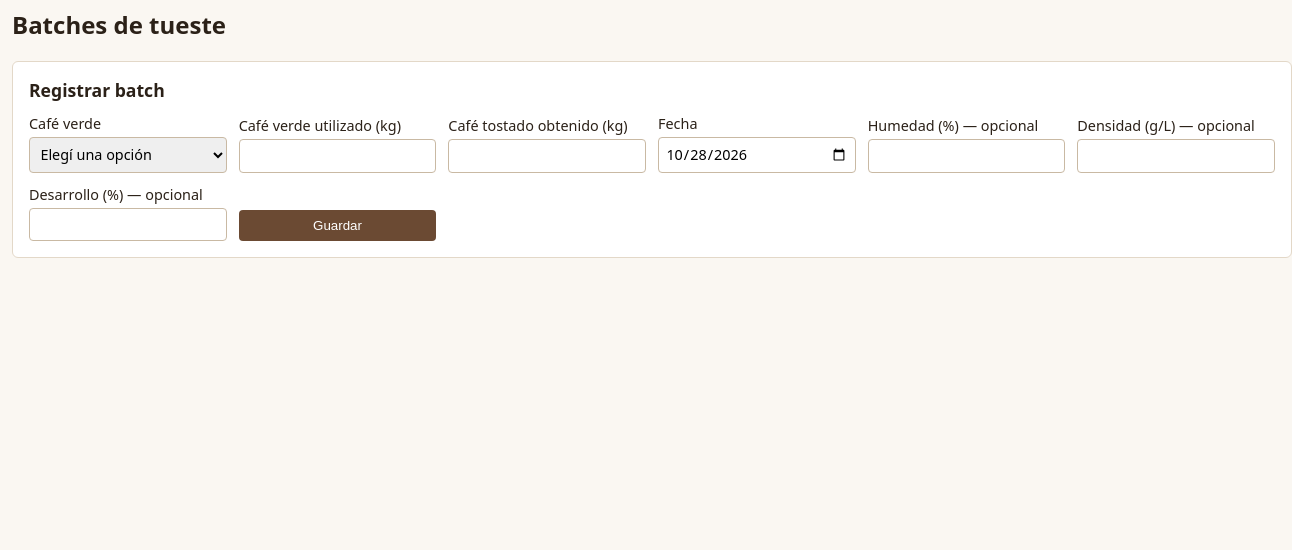
it: Página de batches › envía los kg tal como se cargaron y muestra los valores calculados por la API
The image size is (1292, 550).
Select "Colombia" in the dropdown. click: [128, 155]
box: top-left (29, 137), bottom-right (227, 173)
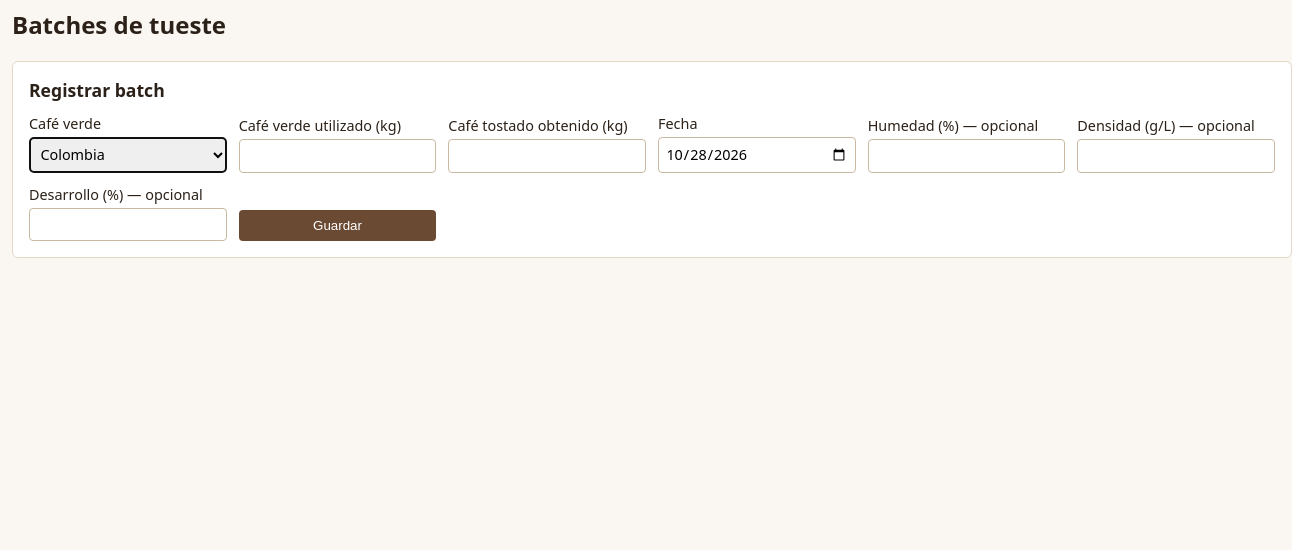
Type "5,25" into the field labelled "Café verde utilizado (kg)". click: [338, 156]
box: top-left (239, 139), bottom-right (436, 173)
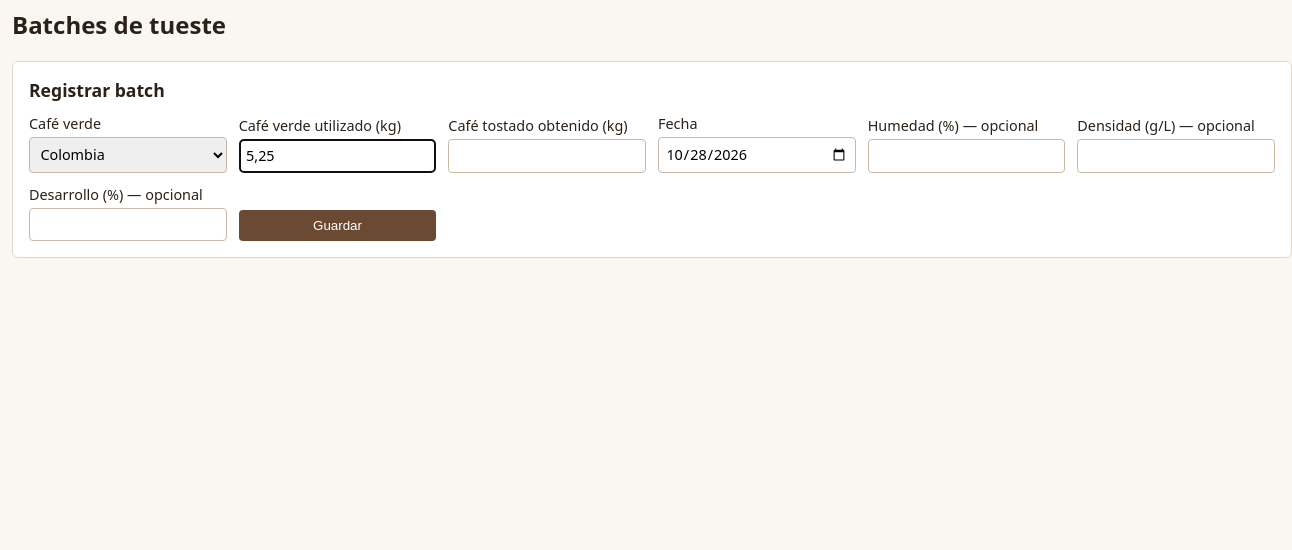
Type "4.5" into the field labelled "Café tostado obtenido (kg)". click: [547, 156]
box: top-left (448, 139), bottom-right (646, 173)
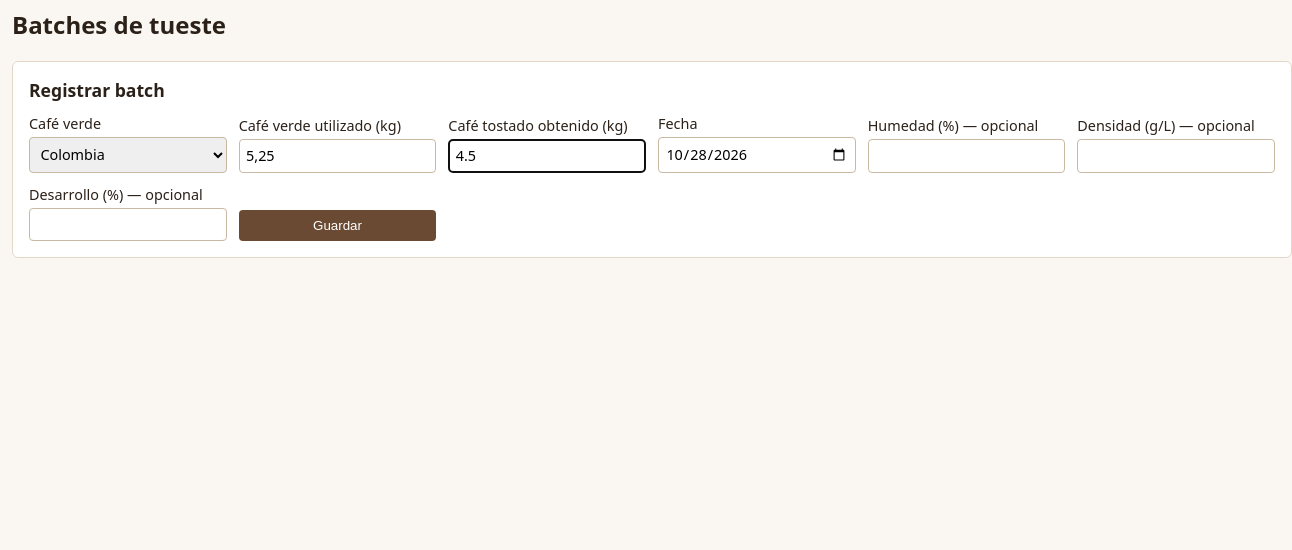
Click the button "Guardar". click: [338, 226]
box: top-left (239, 210), bottom-right (436, 241)
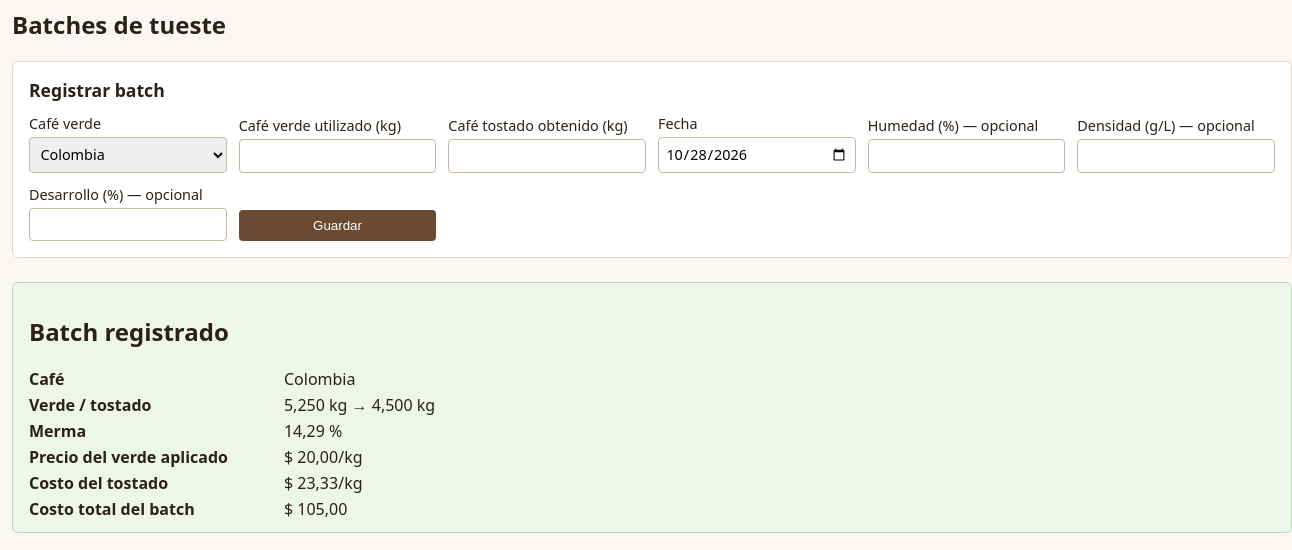
Result: the element named "Resultado del batch" shows "14,29 %" at top-left (284, 420), bottom-right (342, 442)
Result: the element named "Resultado del batch" shows "23,33/kg" at top-left (284, 472), bottom-right (362, 494)
Result: the element named "Resultado del batch" shows "105,00" at top-left (284, 498), bottom-right (347, 520)
